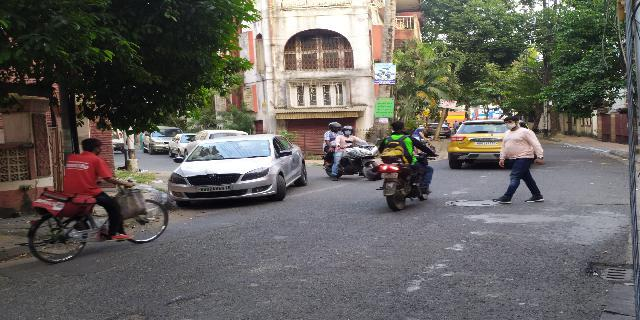Car: (165, 131, 310, 209), (445, 116, 507, 167)
Cycle: (23, 133, 168, 269)
Motorbike: (376, 116, 435, 217), (319, 118, 381, 189)
